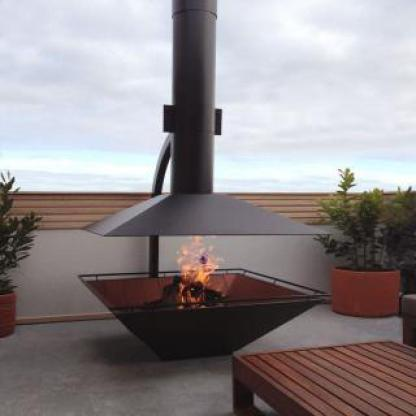fire: (169, 234, 222, 308)
